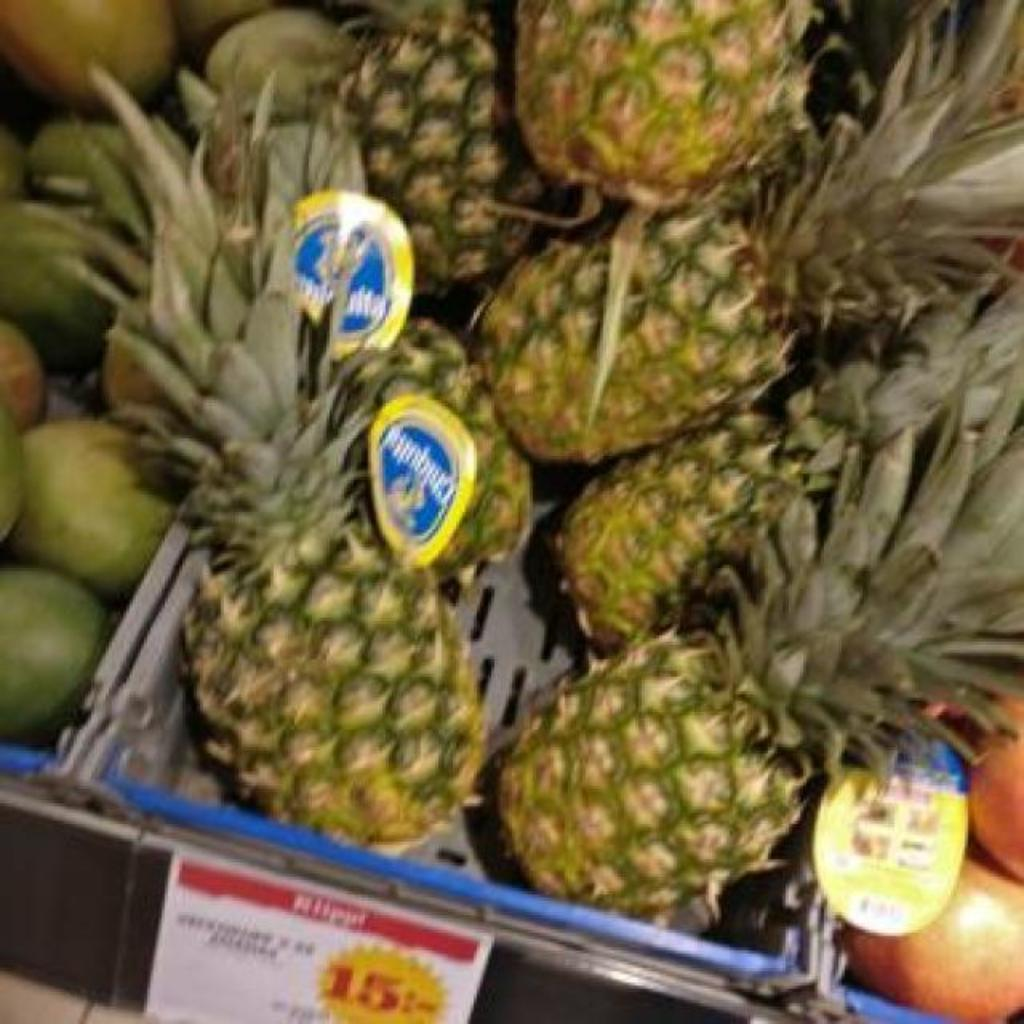pineapple: (500, 286, 1024, 917), (480, 0, 1024, 461), (126, 224, 484, 841), (560, 362, 878, 651), (516, 1, 807, 205), (348, 0, 526, 289), (356, 320, 532, 576), (222, 126, 352, 227), (278, 112, 366, 207)
